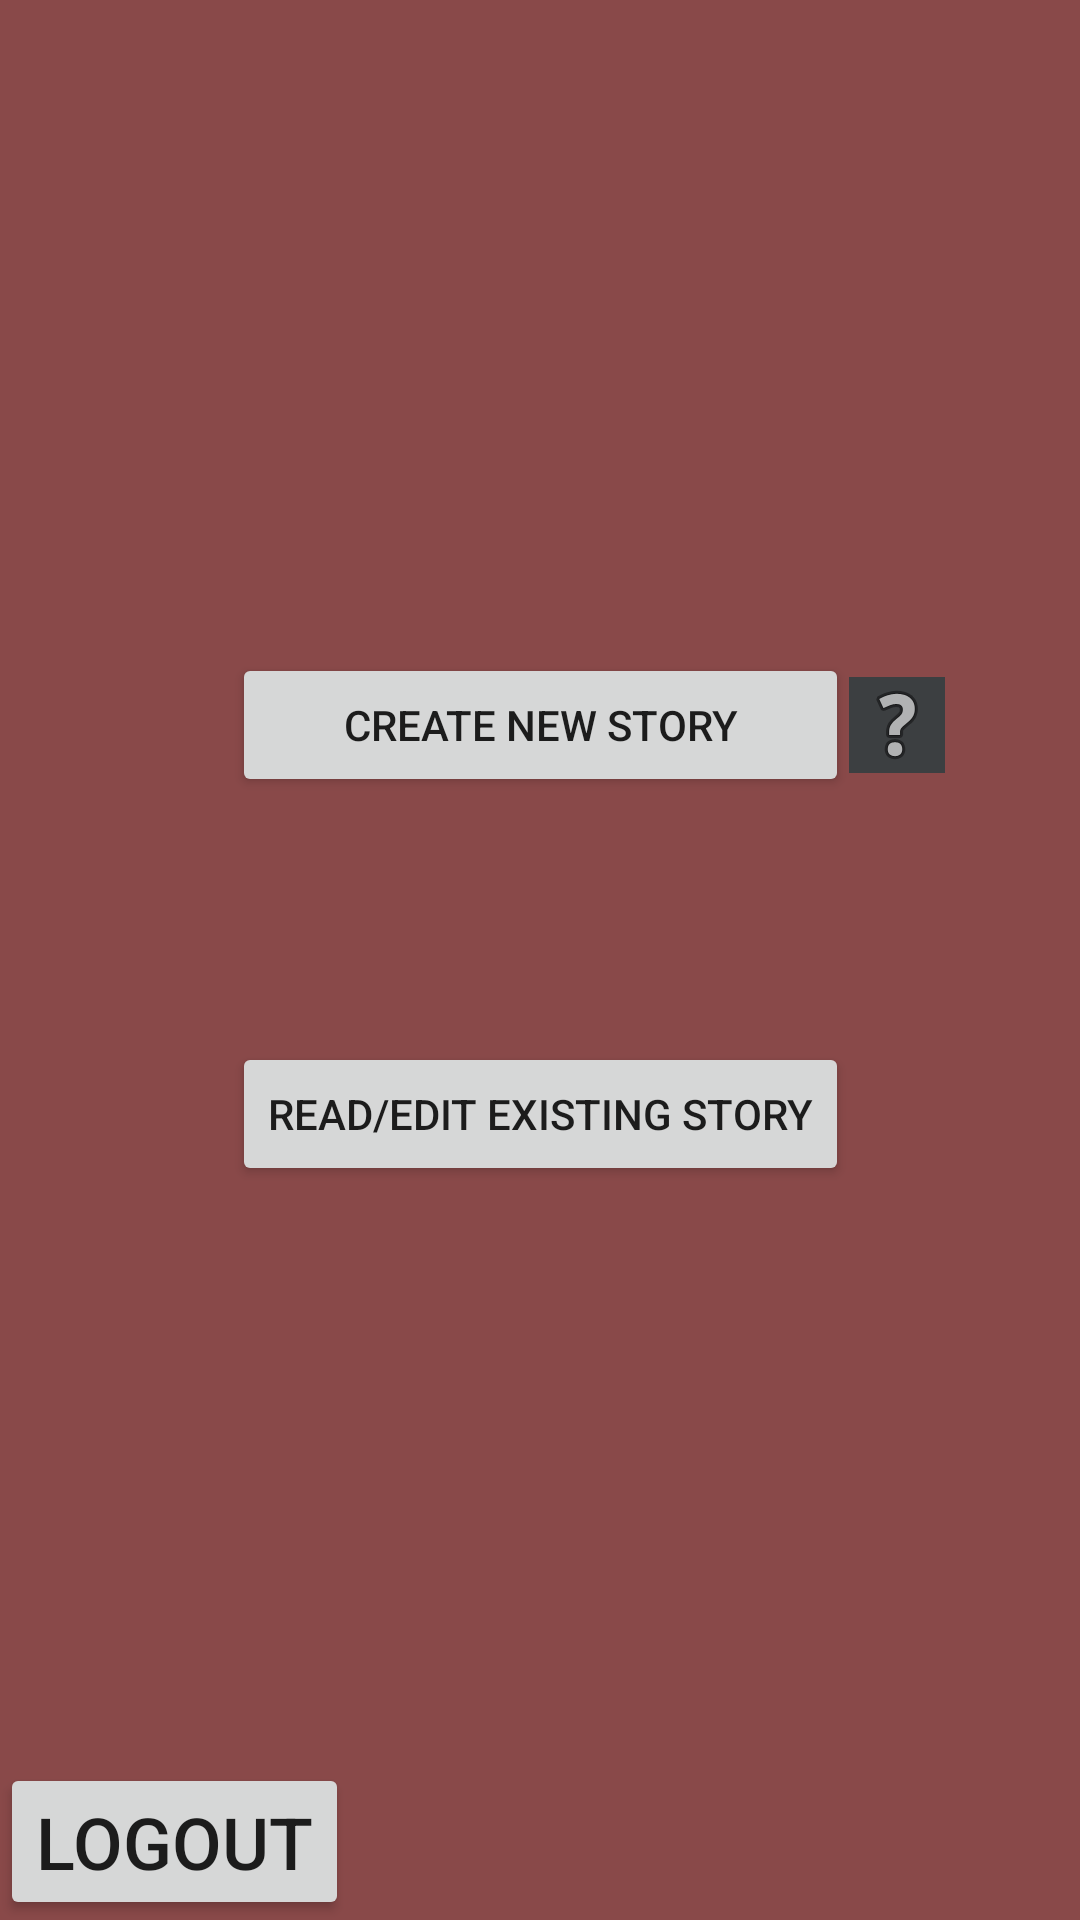

Point at icon controls on the screen. Image size 1080px×1920px, points as (x,y).
help: (897,725)
